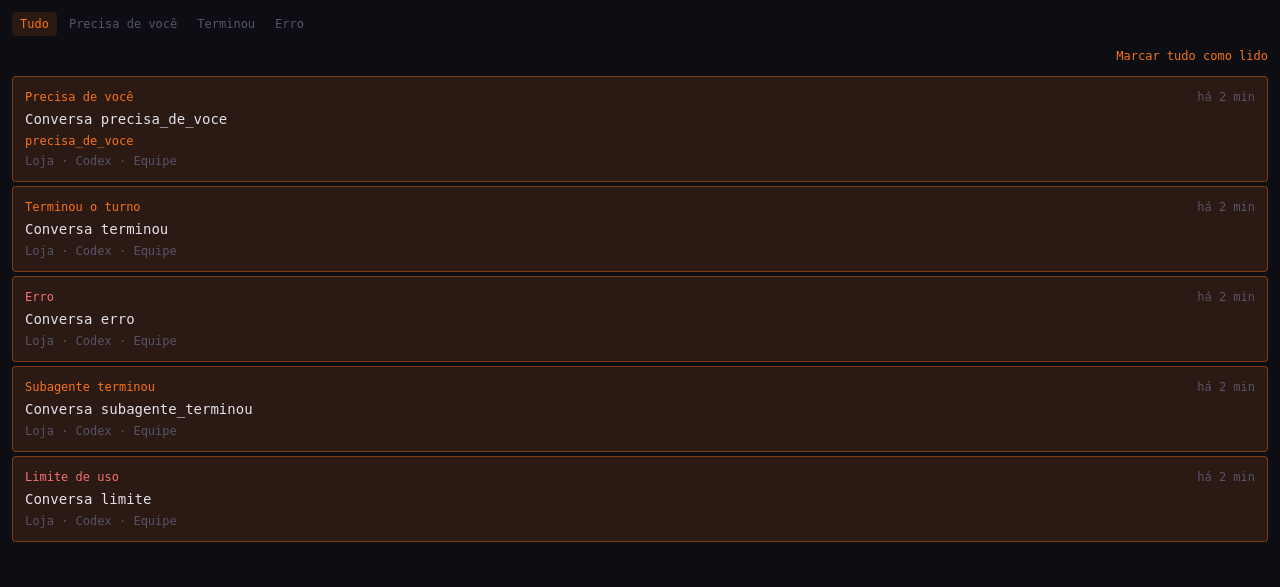
it: Caixa Atividade › falha ao guardar leitura é visível e não abre silenciosamente
Click the button "Conversa precisa_de_voce". click: (79, 97)
box: [12, 76, 1268, 182]
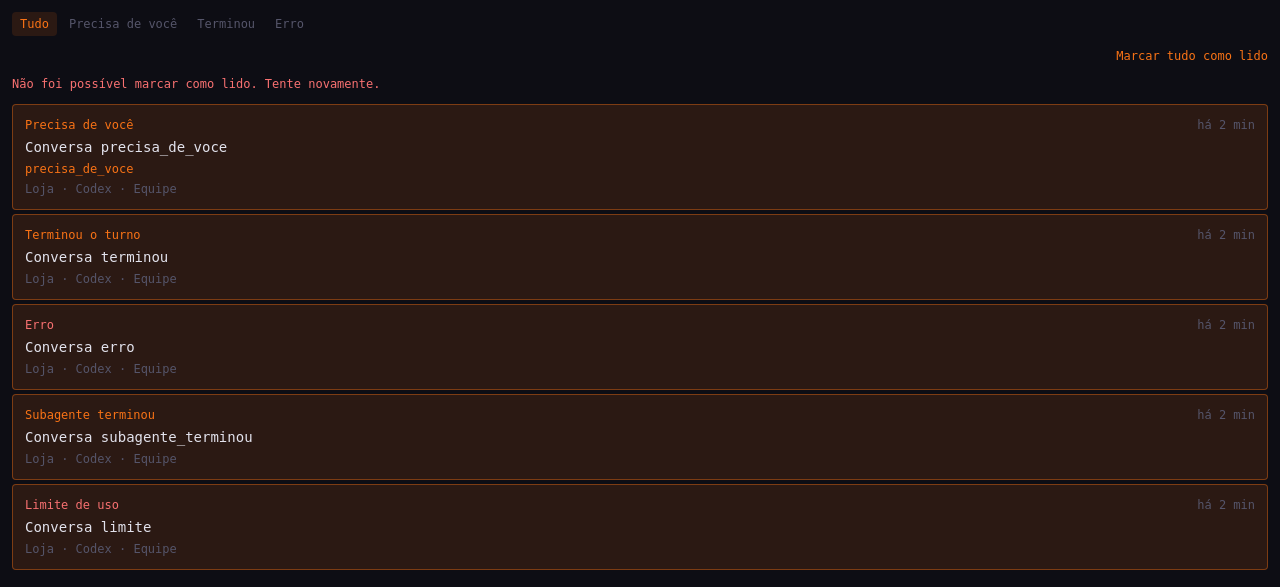
Expected: the message shows "Não foi possível marcar", [12, 77, 380, 91]
